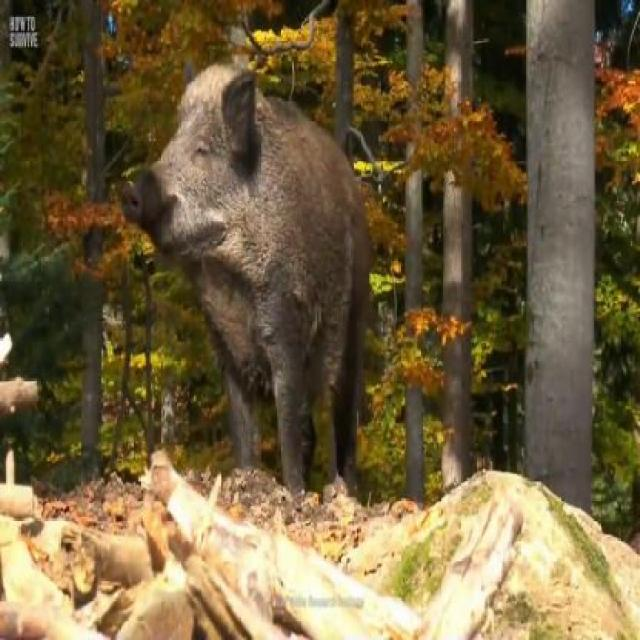pig: (111, 18, 380, 516)
